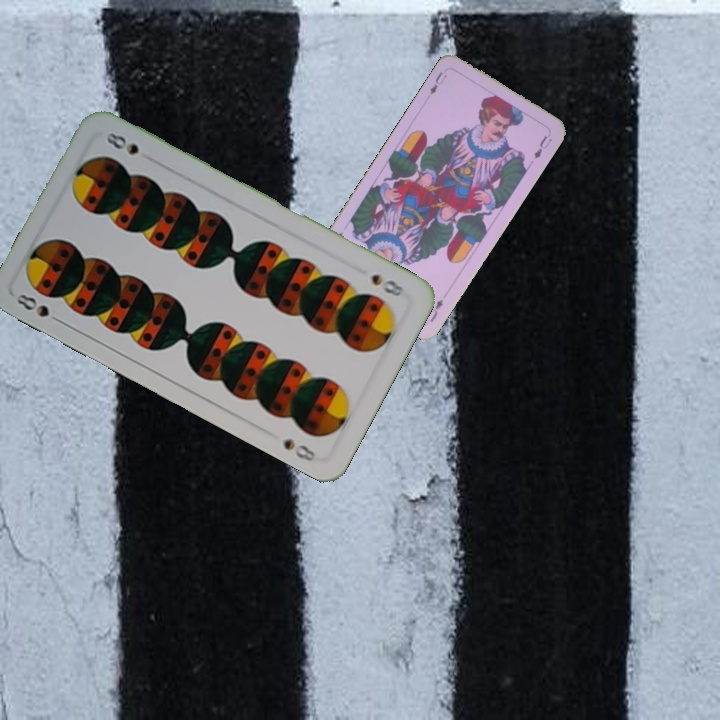EU: (422, 295, 446, 325), (426, 68, 449, 98)
S8: (12, 289, 66, 327), (367, 269, 411, 299)
